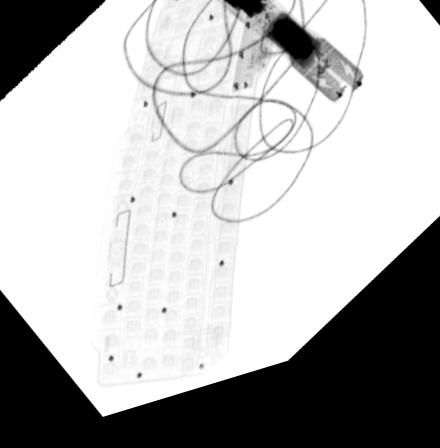Baton: (200, 0, 365, 125)
